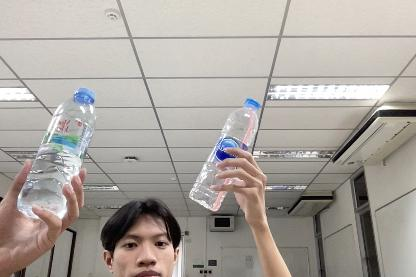Plastic Bottle: (14, 85, 98, 223), (186, 96, 263, 212)
